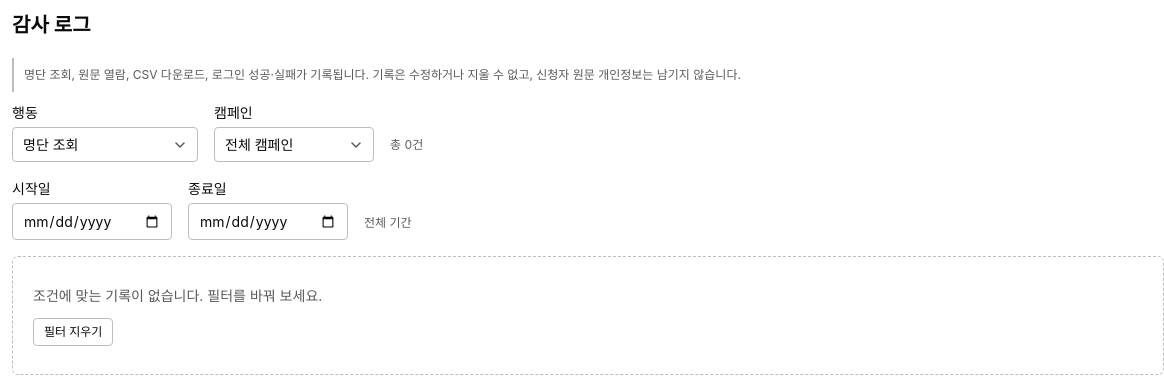
Test case: 감사 로그 › 기록이 없으면 빈 상태를, 필터가 있으면 필터 지우기를 보여준다
Expected: the text "조건에 맞는 기록이 없습니다. 필터를 바꿔 보세요." is shown, [33,285,322,306]
What coordinates should you click on to do the following:
click the button "필터 지우기"
I would click on:
 (73, 332)
Its box is [33,318,113,346].
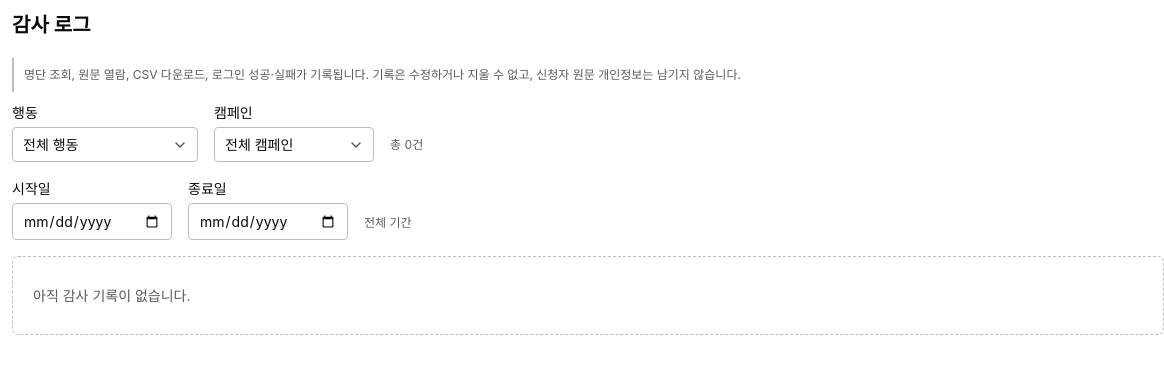
Expected: the text "아직 감사 기록이 없습니다." is shown, [33,285,190,306]
